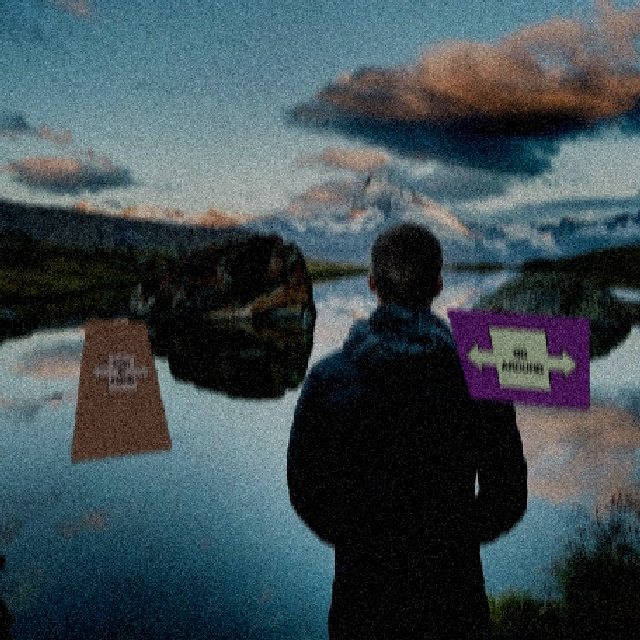DO_NOT_GO_AROUND: (87, 351, 152, 396)
GO_AROUND: (456, 323, 578, 394)
